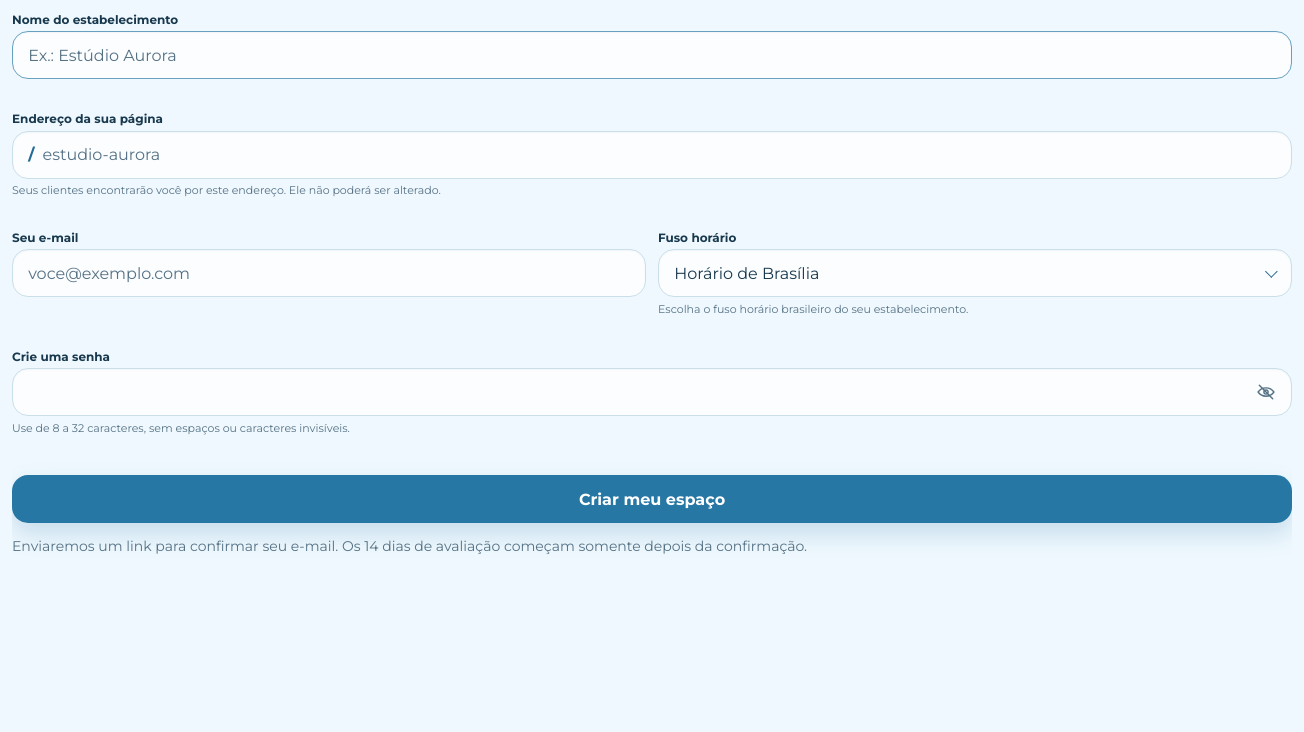
Scenario: bloqueia dados inválidos e foca o primeiro campo
The image size is (1304, 732).
Click the button "Criar meu espaço" at (652, 500), box [12,476,1292,524]
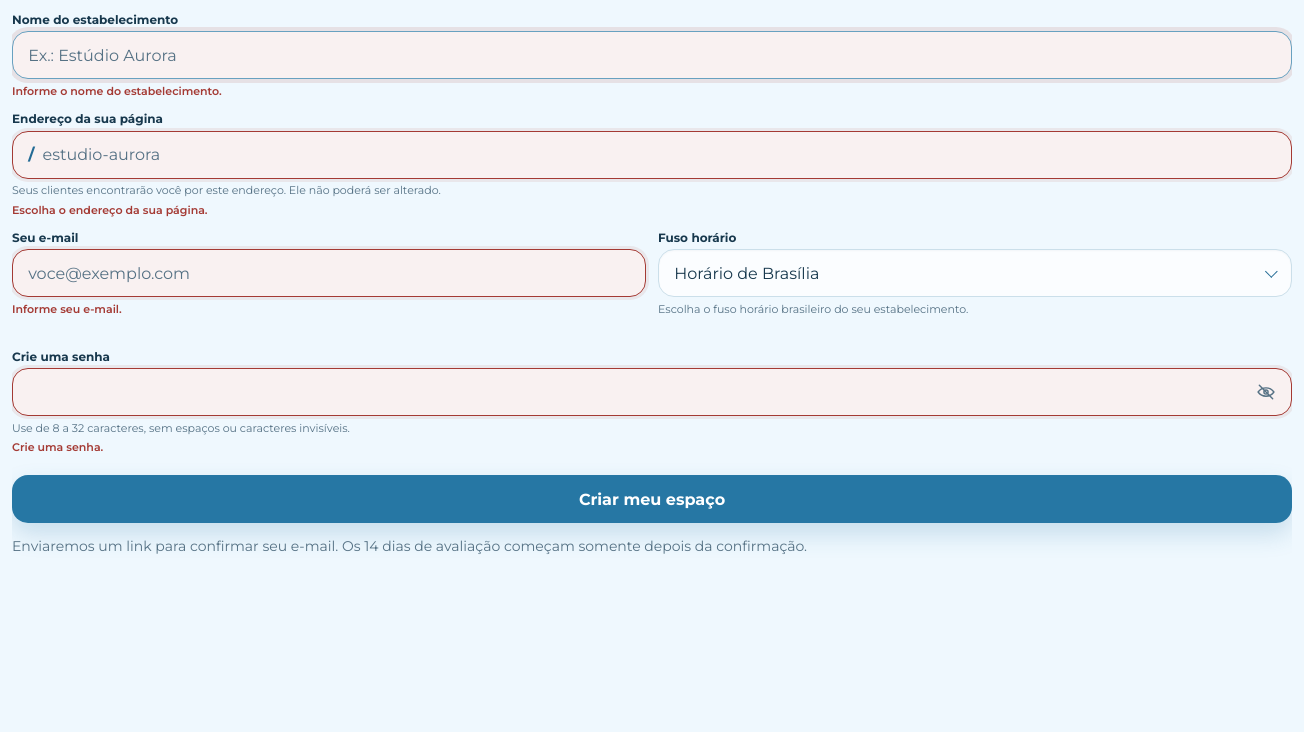
Check: the text "Informe o nome do estabelecimento." is shown, box [12,84,222,98]
Check: the text "Escolha o endereço da sua página." is shown, box [12,203,208,217]
Check: the text "Informe seu e-mail." is shown, box [12,302,122,316]
